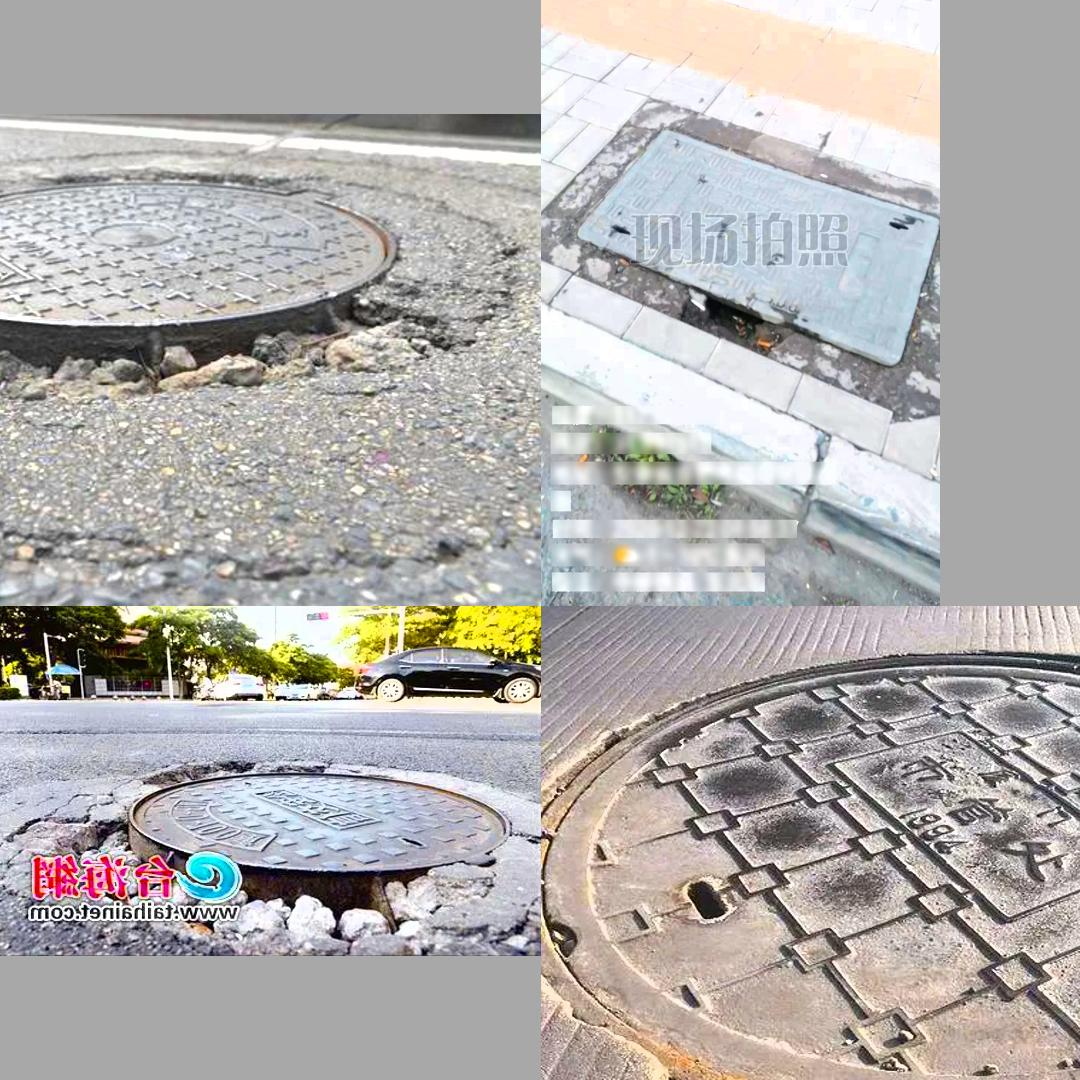circle: (565, 647, 1080, 1080), (0, 158, 514, 417), (546, 97, 940, 391), (0, 758, 531, 935)
